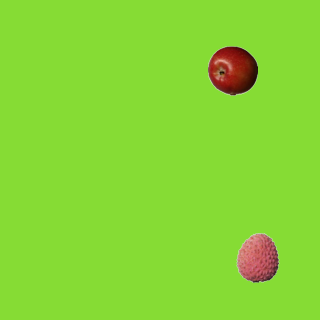Apple Braeburn: (207, 45, 257, 95)
Lychee: (232, 232, 282, 282)
